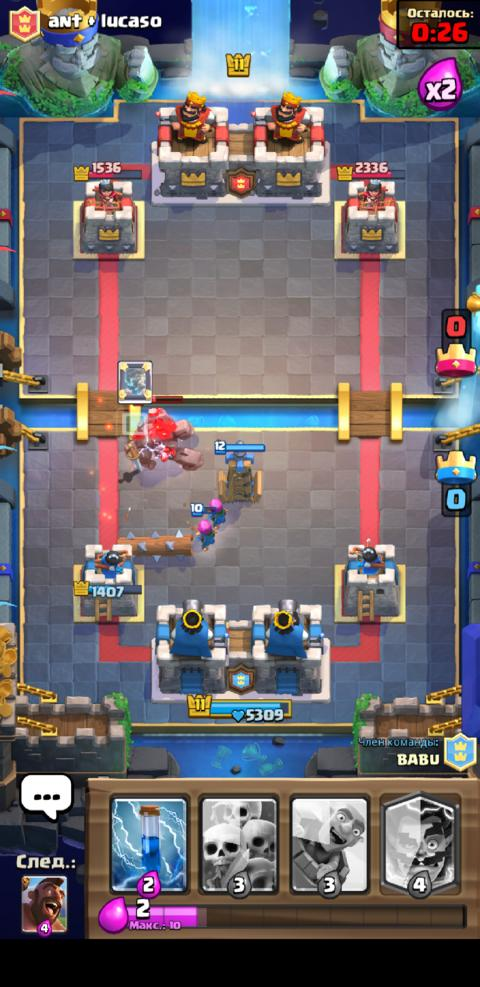ally_archer: (189, 502, 216, 553), (208, 496, 227, 528)
ally_log: (114, 527, 192, 562)
ally_tesla: (213, 438, 266, 504)
enemy_golem: (124, 395, 204, 471)
